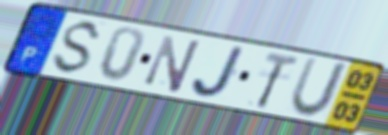0: (95, 26, 147, 84)
J: (190, 44, 249, 100)
N: (141, 33, 204, 96)
S: (49, 19, 106, 77)
T: (253, 50, 302, 110)
U: (287, 55, 353, 120)
